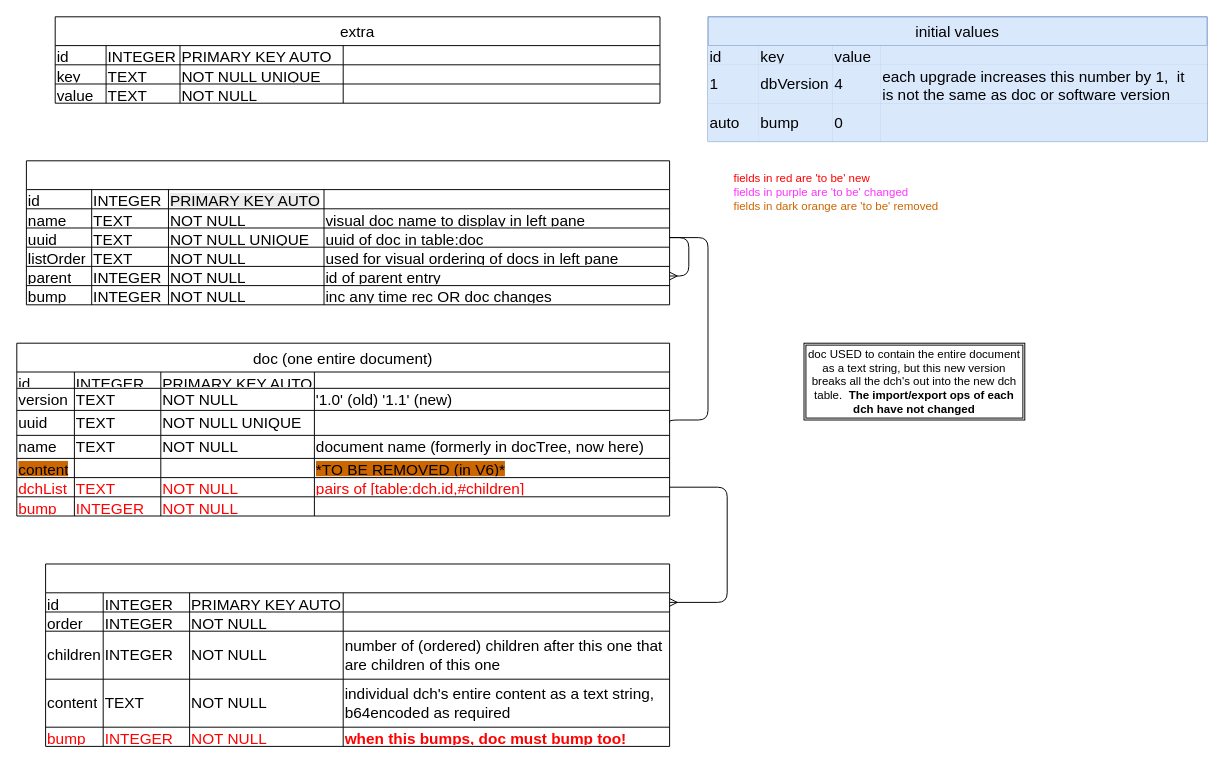
This 1224x763 diagram has some shape labels left out. Here are the shapes that lost their labels. From the top down, the box of each, then its label:
(25, 160, 670, 305): docTree (linkage to doc entries to show in left pane)
(45, 563, 670, 746): dch (individual dch content inside a doc) (*new table*)
